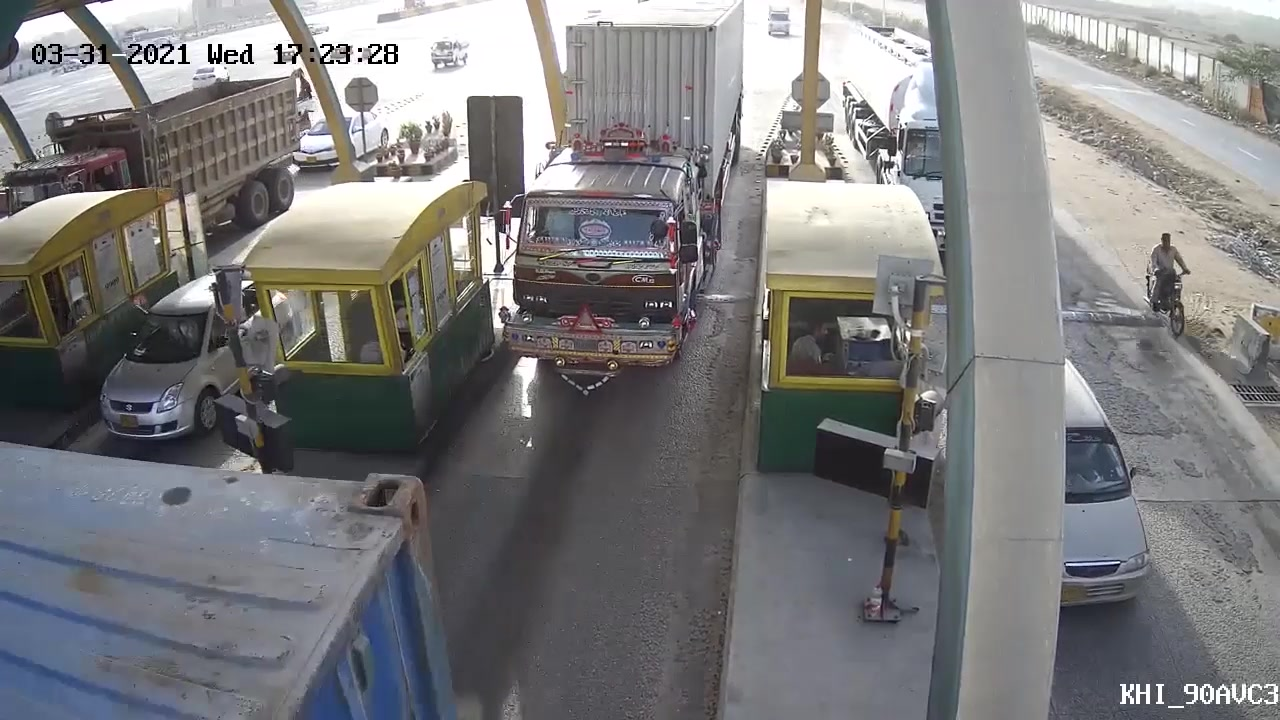F6: (498, 20, 739, 405)
